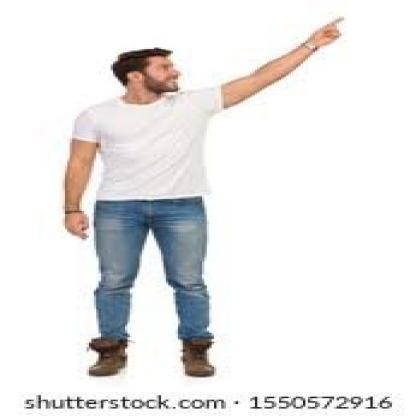Up: (299, 8, 368, 49)
